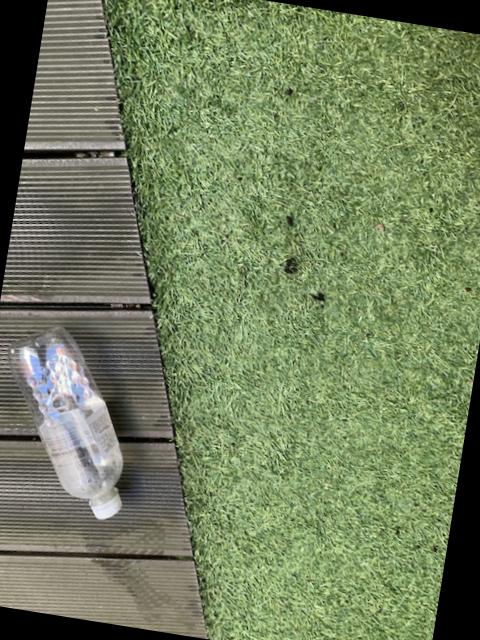plastic: (10, 329, 124, 520)
